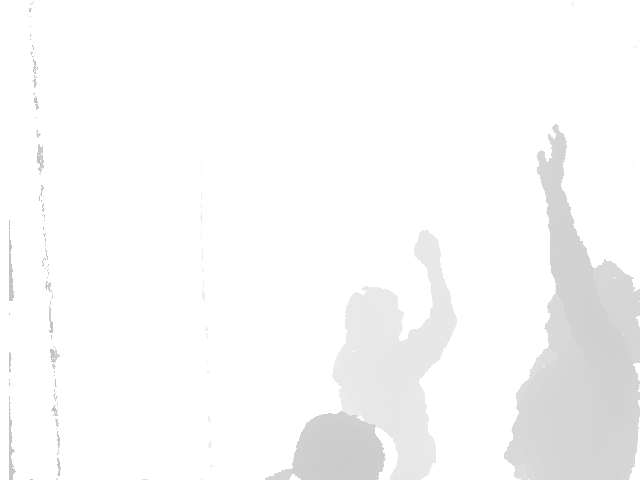hand: (537, 125, 566, 191), (413, 230, 441, 269)
head: (544, 262, 640, 361), (292, 412, 385, 480), (345, 286, 403, 344)
person: (501, 124, 640, 480), (332, 230, 458, 480), (260, 413, 386, 480)
